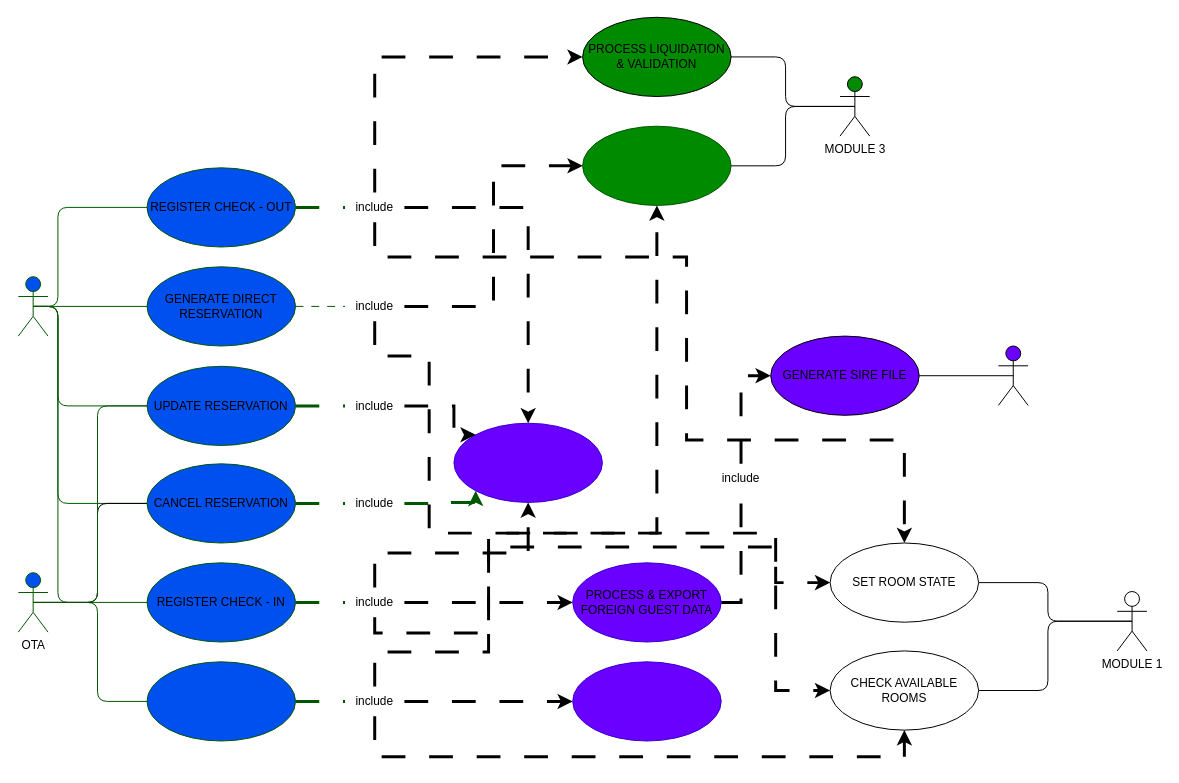
This 1179x783 diagram has some shape labels left out. The shapes that lost their labels are listed below. From the top down, each one's centre as x and y in pixels, then its label:
[656,165]: CALCULATE DYNAMIC RATE
[32,306]: USER
[1012,375]: MIGRATION (SIRE)
[527,462]: CHECK / VIEW RESERVATION
[221,701]: GENERATE OTA RESERVATION
[646,701]: REGISTER OTA CONFIRMATION & COMMISSION
